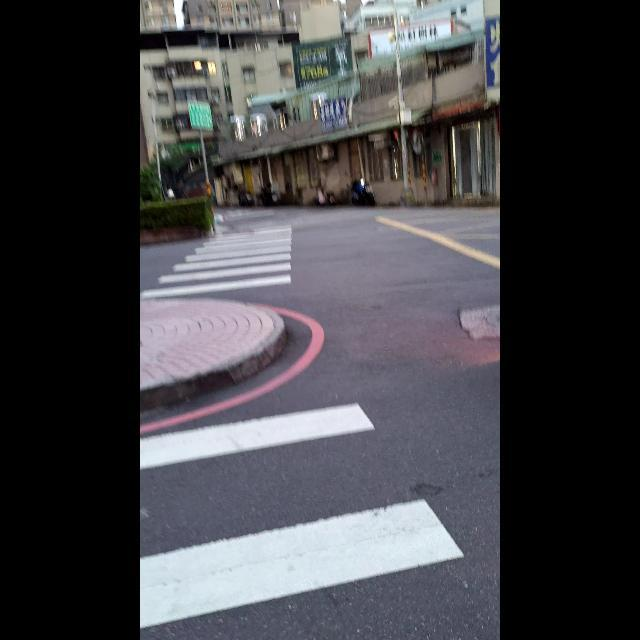sidewalk: (140, 225, 500, 640)
